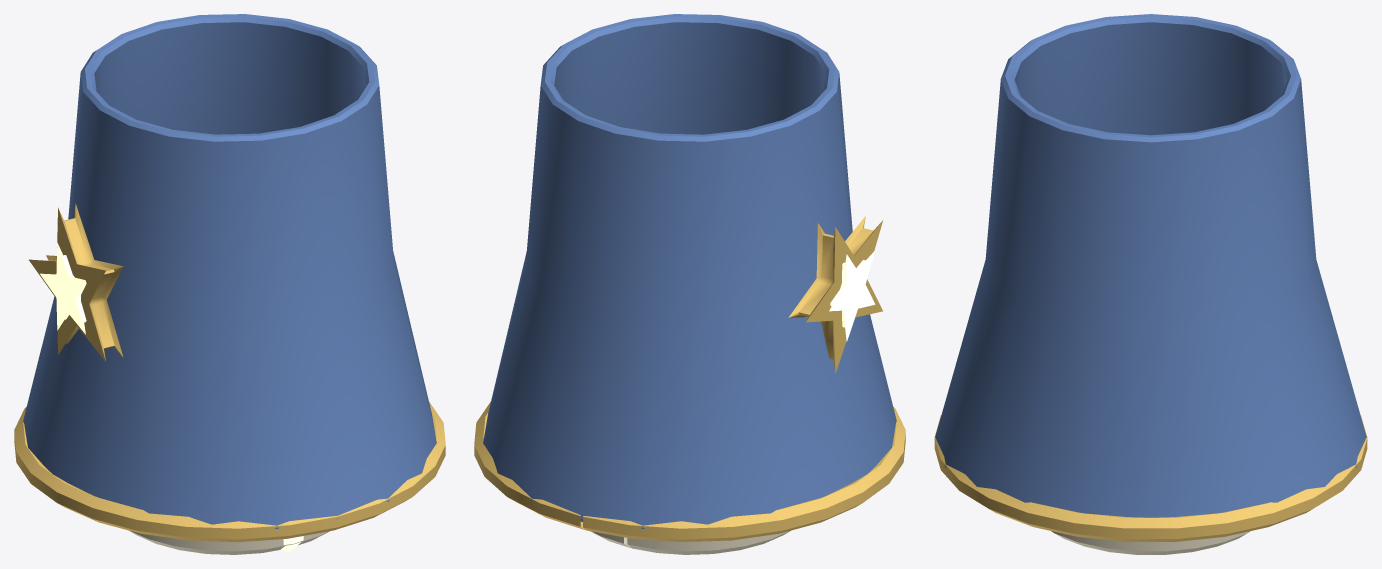
File: asc_lightbinder_gloves_R.glb
The picture shows the model from 3 angles, left to right: view 1: azimuth 30°, elevation 25°; view 2: azimuth 150°, elevation 25°; view 3: azimuth 270°, elevation 25°; orthographic projection.
Visible parts, largest first — view 1: asc_lightbinder_gloves; view 2: asc_lightbinder_gloves; view 3: asc_lightbinder_gloves.
Part boxes in pixels (x1,y1,x2,y2): asc_lightbinder_gloves: [14, 14, 445, 554]; asc_lightbinder_gloves: [474, 14, 905, 554]; asc_lightbinder_gloves: [934, 14, 1367, 554].
Size of the model in its own units: 0.221 by 0.2464 by 0.2227.
